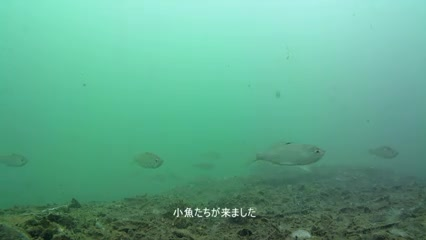smallfish: (242, 136, 338, 172), (127, 150, 166, 174), (364, 141, 401, 160), (3, 153, 29, 169)
